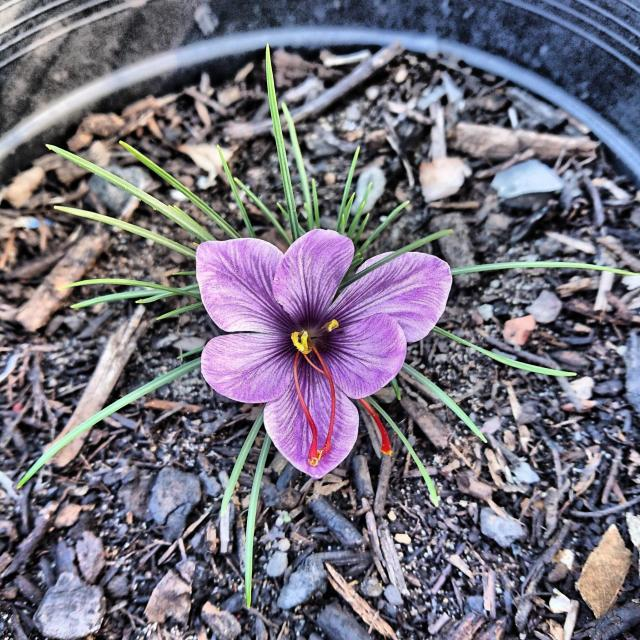Flower: (192, 226, 456, 481)
stigma: (290, 350, 321, 465), (313, 342, 337, 461), (354, 393, 395, 455)
